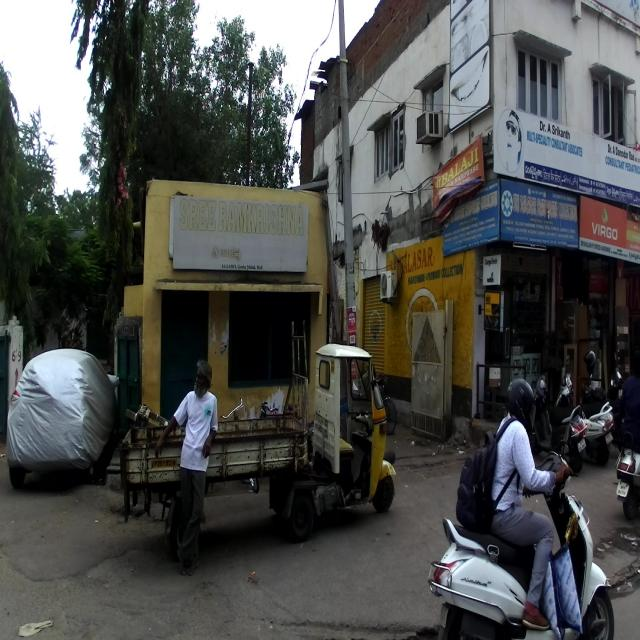Car: (5, 346, 120, 491)
scooter: (427, 448, 616, 639), (552, 356, 615, 470), (531, 371, 587, 475), (613, 427, 640, 525)
truck: (119, 343, 397, 574)
